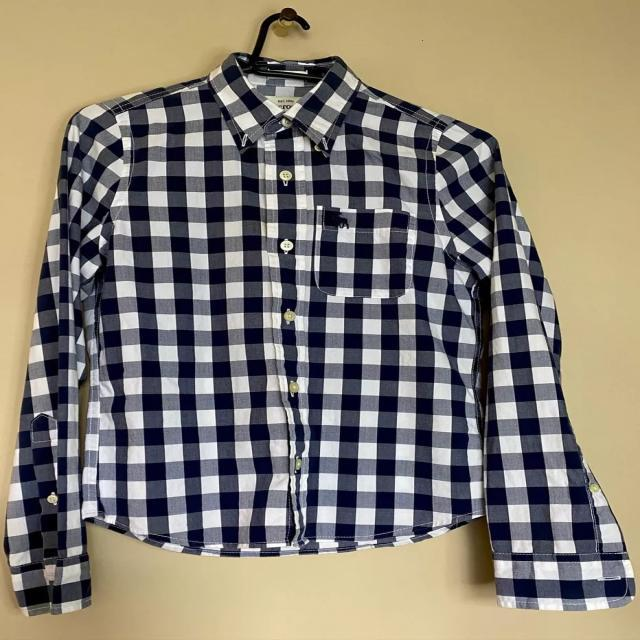long sleeve shirt: (0, 50, 637, 622)
